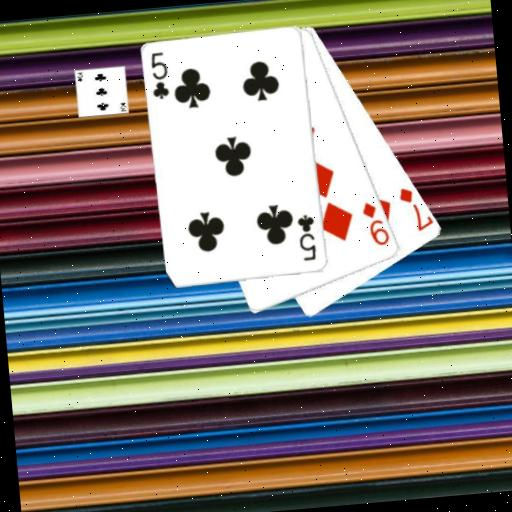5C: (147, 49, 173, 103), (294, 212, 320, 264)
7D: (396, 182, 435, 235)
9D: (358, 198, 392, 249)
